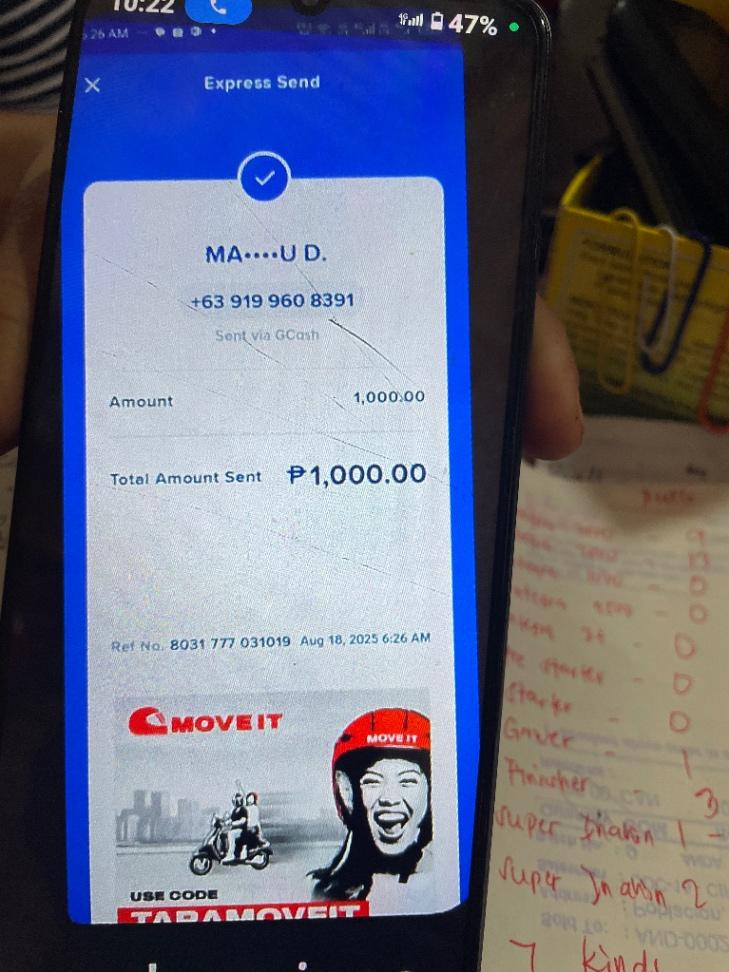Receipt: (74, 47, 484, 924)
